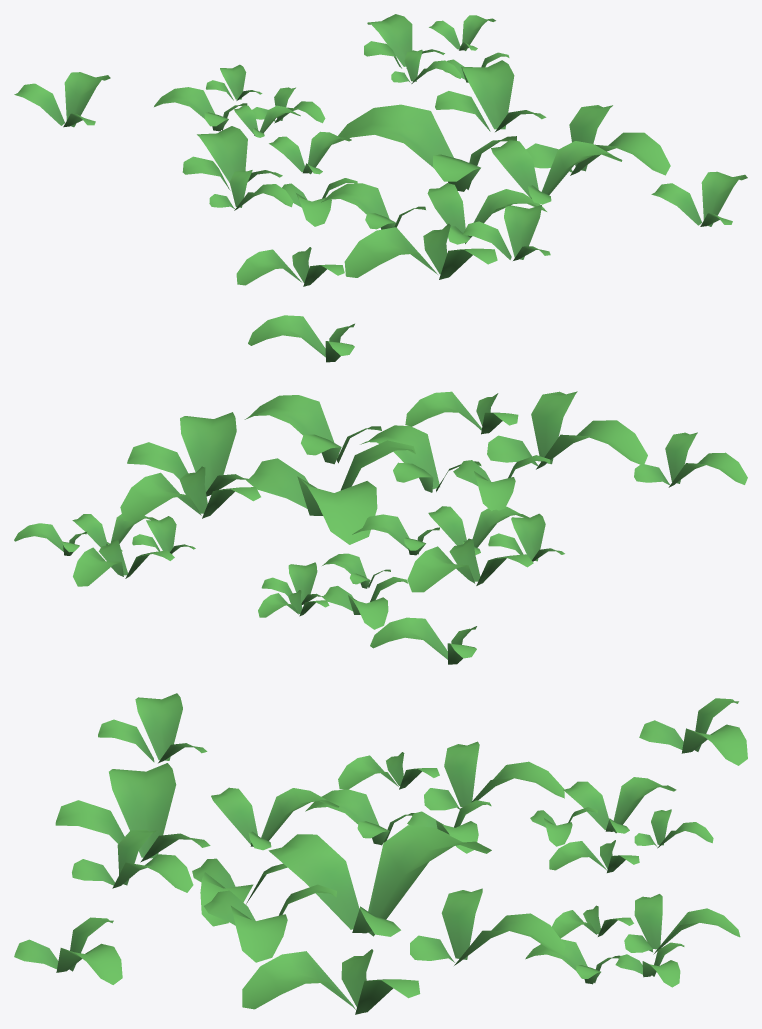
Rendered from ground_grass_02.fbx.
The picture shows the model from 3 angles, top to bottom: view 1: azimuth 30°, elevation 25°; view 2: azimuth 150°, elevation 25°; view 3: azimuth 270°, elevation 25°; orthographic projection. The views are drawn at different scales.
Parts seen in each view (by area): view 1: ground_grass_02; view 2: ground_grass_02; view 3: ground_grass_02.
Part boxes in pixels (x1,y1,x2,y2): ground_grass_02: [14, 14, 747, 286]; ground_grass_02: [14, 315, 747, 664]; ground_grass_02: [14, 693, 747, 1014].
Bounding box in the file's own units: 644 × 90.36 × 705.
